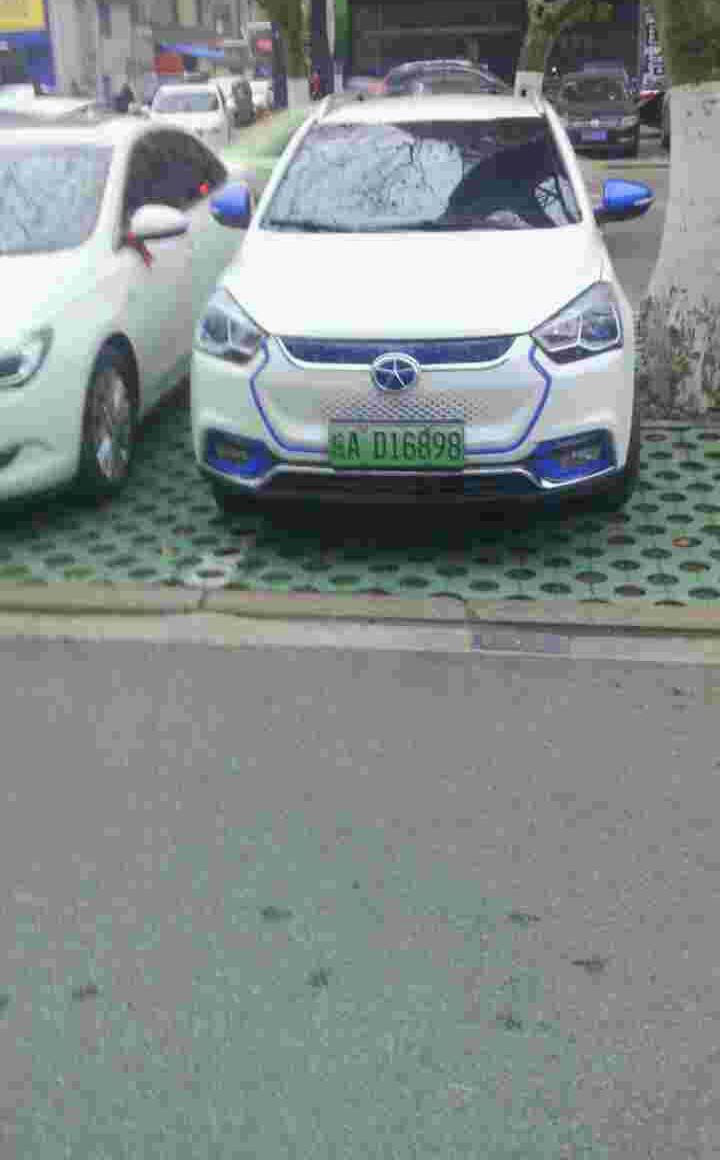car: (332, 413, 470, 478)
